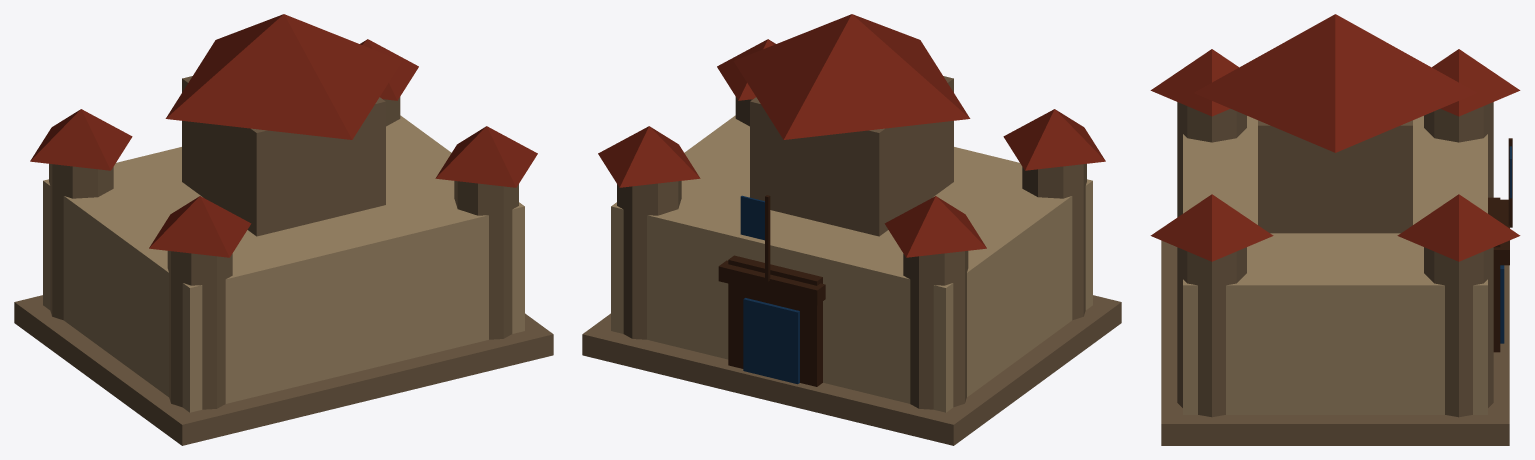
The model's file is TownCenter_authoring.obj.
3 renders of one model, left to right at view 1: azimuth 30°, elevation 25°; view 2: azimuth 150°, elevation 25°; view 3: azimuth 270°, elevation 25°, orthographic. The views are drawn at different scales.
Parts seen in each view (by area): view 1: KeepWalls, CentralRoof, Foundation, CentralKeep, CornerTower, TowerCap; view 2: KeepWalls, CentralRoof, CentralKeep, Foundation, CornerTower, TowerCap, EntranceFrame, Gate, GateLintel, Banner; view 3: KeepWalls, CentralRoof, CornerTower, Foundation, CentralKeep, TowerCap, EntranceFrame, GateLintel, Gate.
Part boxes in pixels (left/top/right/bottom): KeepWalls: left=43, top=115, right=524, bottom=412; CentralRoof: left=165, top=14, right=402, bottom=139; Foundation: left=14, top=295, right=553, bottom=445; CentralKeep: left=182, top=76, right=385, bottom=236; CornerTower: left=49, top=97, right=518, bottom=409; TowerCap: left=30, top=39, right=537, bottom=257; KeepWalls: left=611, top=115, right=1092, bottom=412; CentralRoof: left=733, top=14, right=970, bottom=139; CentralKeep: left=750, top=76, right=953, bottom=236; Foundation: left=582, top=295, right=1121, bottom=445; CornerTower: left=617, top=97, right=1086, bottom=409; TowerCap: left=598, top=39, right=1105, bottom=257; EntranceFrame: left=728, top=255, right=822, bottom=386; Gate: left=743, top=298, right=799, bottom=384; GateLintel: left=718, top=260, right=825, bottom=305; Banner: left=740, top=195, right=764, bottom=240; KeepWalls: left=1183, top=116, right=1487, bottom=414; CentralRoof: left=1194, top=14, right=1476, bottom=152; CornerTower: left=1177, top=102, right=1493, bottom=417; Foundation: left=1161, top=240, right=1509, bottom=445; CentralKeep: left=1258, top=120, right=1412, bottom=233; TowerCap: left=1150, top=49, right=1520, bottom=261; EntranceFrame: left=1488, top=197, right=1500, bottom=352; GateLintel: left=1493, top=199, right=1509, bottom=265; Gate: left=1500, top=265, right=1504, bottom=343.
Size of the model in its own units: 9.65 by 7.7 by 7.65.
